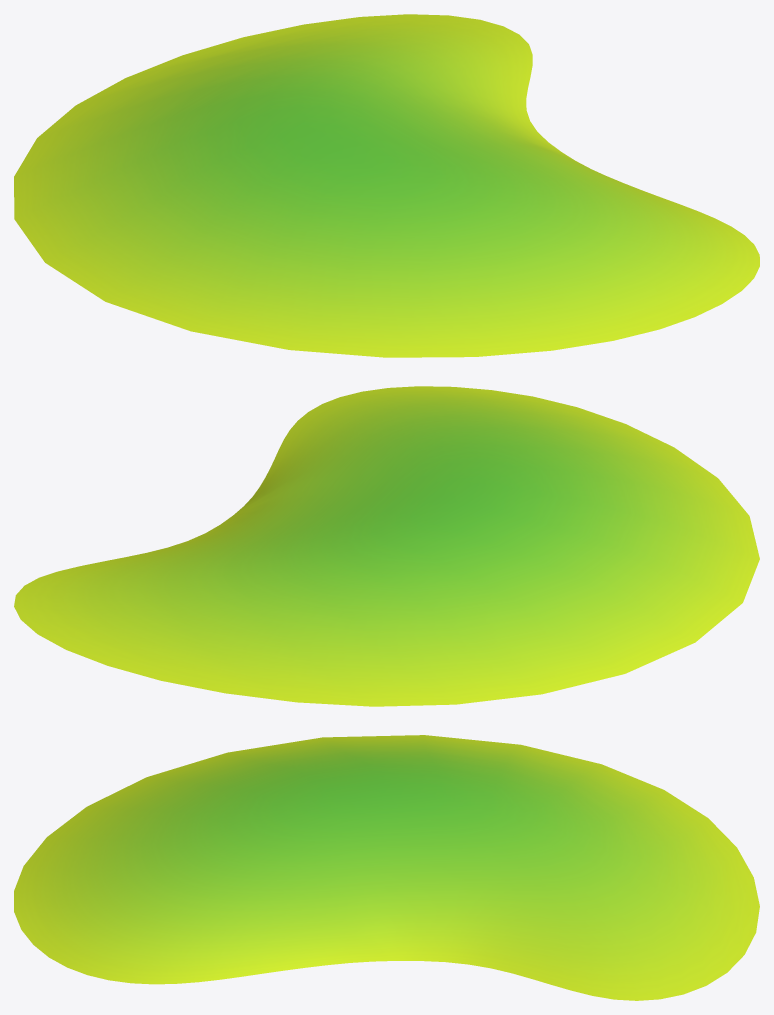
File: ground_010.glb
3 renders of one model, top to bottom at view 1: azimuth 30°, elevation 25°; view 2: azimuth 150°, elevation 25°; view 3: azimuth 270°, elevation 25°, orthographic. The views are drawn at different scales.
Visible parts, largest first — view 1: ground_010; view 2: ground_010; view 3: ground_010.
Part boxes in pixels (x1,y1,x2,y2): ground_010: (14,14,759,357); ground_010: (14,386,759,706); ground_010: (14,735,759,1000).
Bounding box in the file's own units: 21.6 × 2.28 × 25.61.
1 material, 1 textured.
